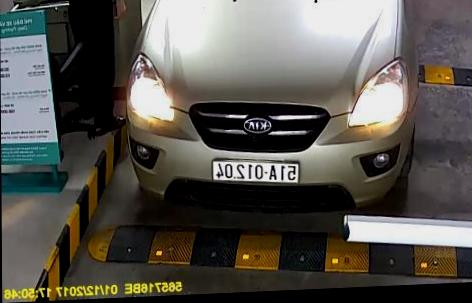License_Plate: (211, 156, 302, 184)
